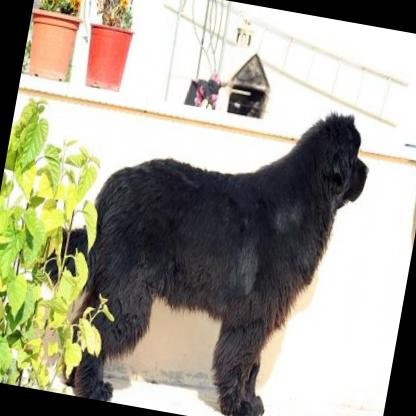Newfoundland: (11, 57, 380, 416)
